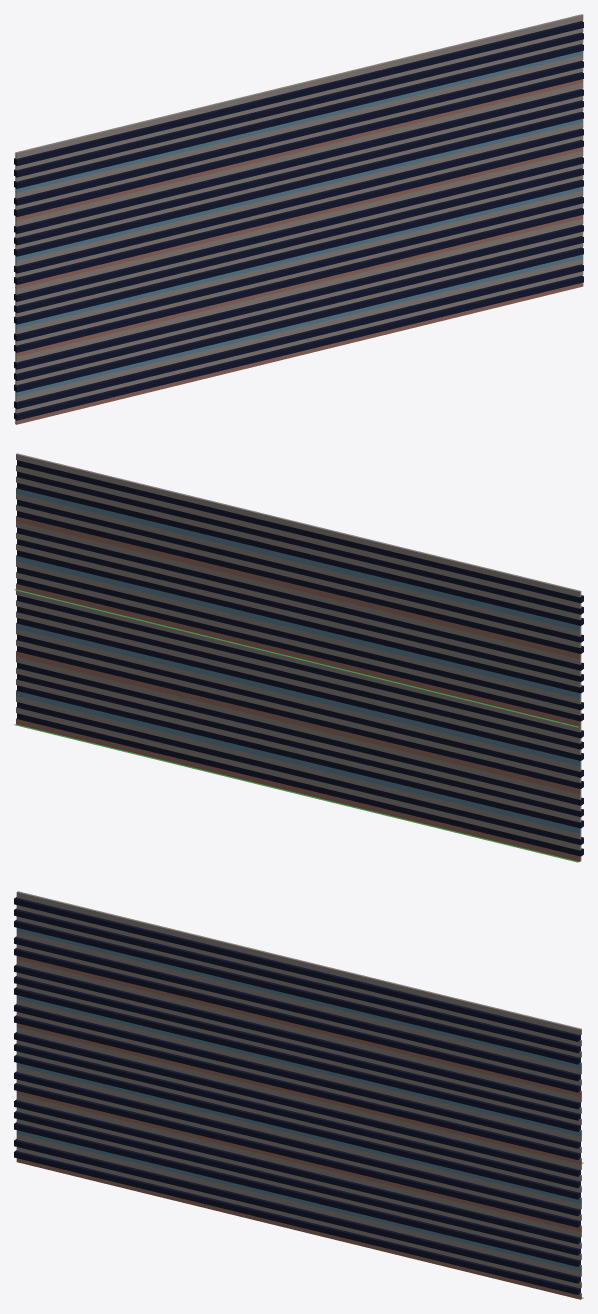
The model's file is pianorollshape.obj.
The picture shows the model from 3 angles, top to bottom: view 1: azimuth 30°, elevation 25°; view 2: azimuth 150°, elevation 25°; view 3: azimuth 330°, elevation 25°; orthographic projection.
Parts seen in each view (by area): view 1: Cube.001_Cube.038; view 2: Cube.001_Cube.038; view 3: Cube.001_Cube.038.
Part boxes in pixels (x1=…): Cube.001_Cube.038: x1=14, y1=14, x2=583, y2=424; Cube.001_Cube.038: x1=14, y1=453, x2=583, y2=862; Cube.001_Cube.038: x1=14, y1=891, x2=583, y2=1299.
Bounding box in the file's own units: 16.79 × 7.66 × 0.2185.
